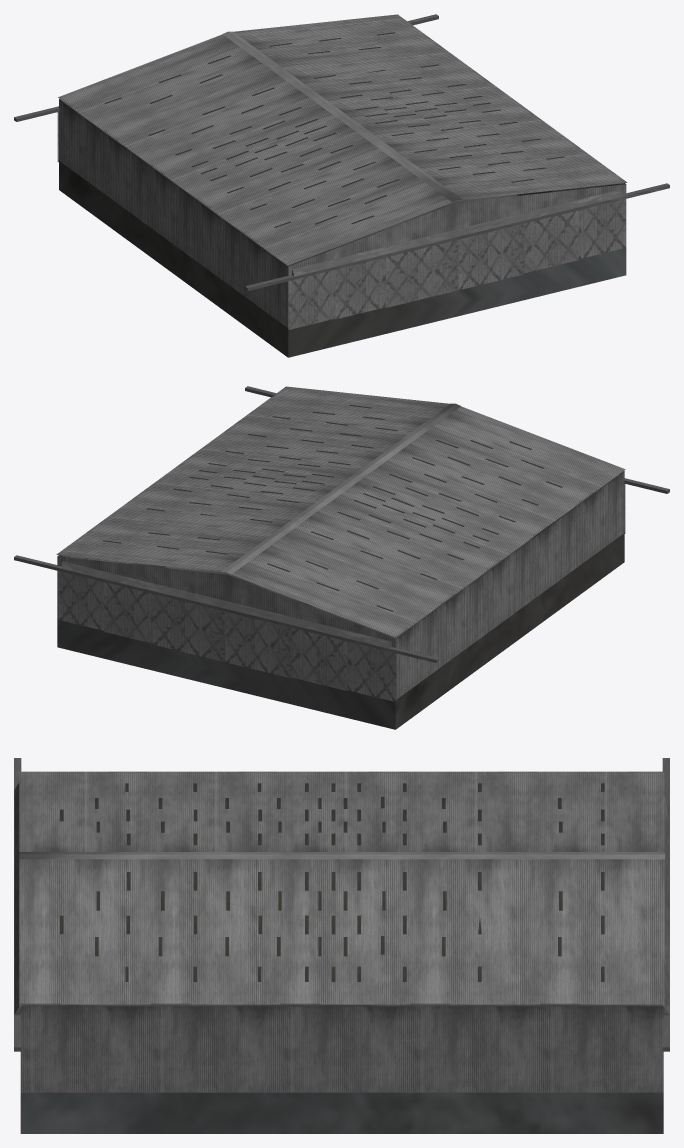
Rendered from fldhangar.glb.
3 renders of one model, top to bottom at view 1: azimuth 30°, elevation 25°; view 2: azimuth 150°, elevation 25°; view 3: azimuth 270°, elevation 25°, orthographic. The views are drawn at different scales.
Parts seen in each view (by area): view 1: Object_2; view 2: Object_2; view 3: Object_2.
Boxes of the visible parts, left/top/right/bottom form: Object_2: left=14, top=14, right=669, bottom=357; Object_2: left=14, top=386, right=669, bottom=729; Object_2: left=14, top=758, right=669, bottom=1133.
Bounding box in the file's own units: 61.58 × 16.28 × 58.99.
Materials: 1 (1 with a texture image).
